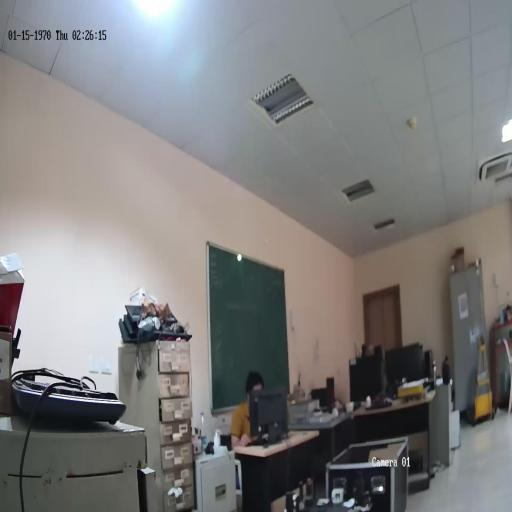laser: (236, 251, 243, 263)
